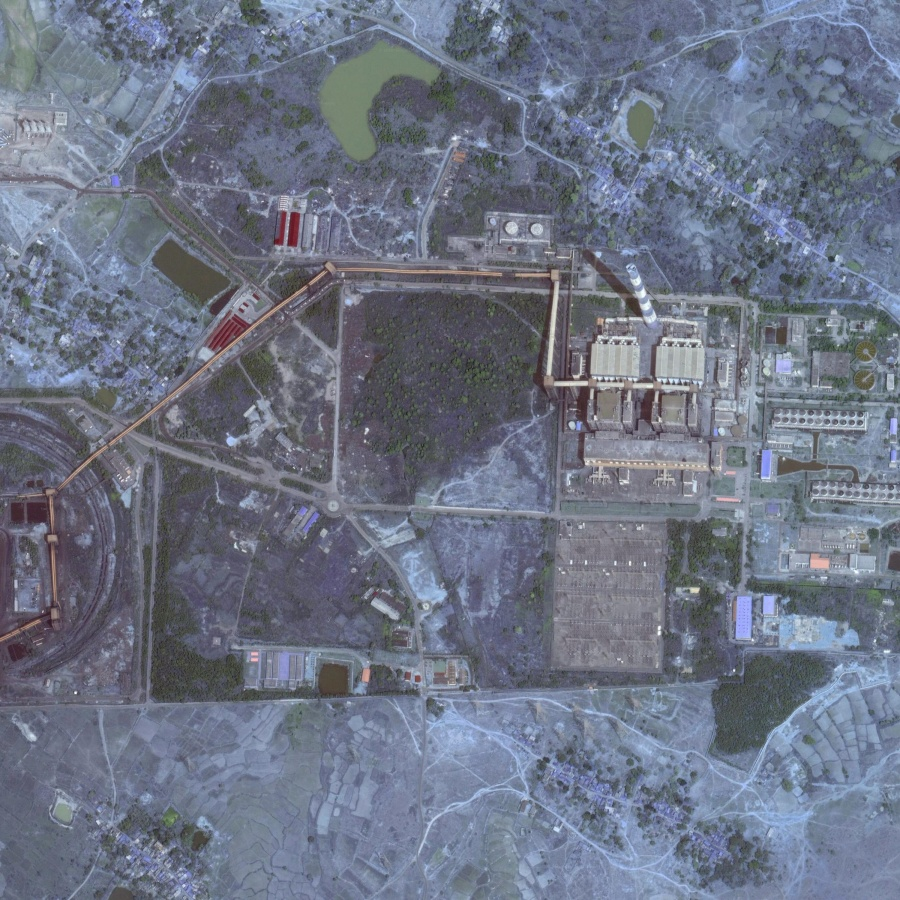PowerPlant: (557, 224, 711, 357)
